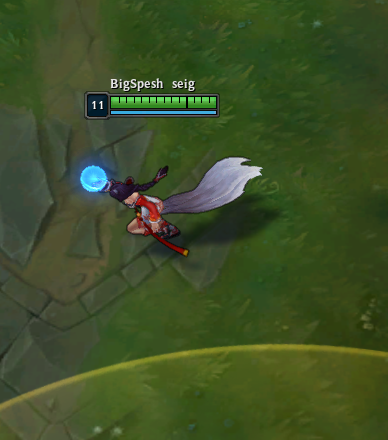Aatrox: (1, 1, 388, 440)
